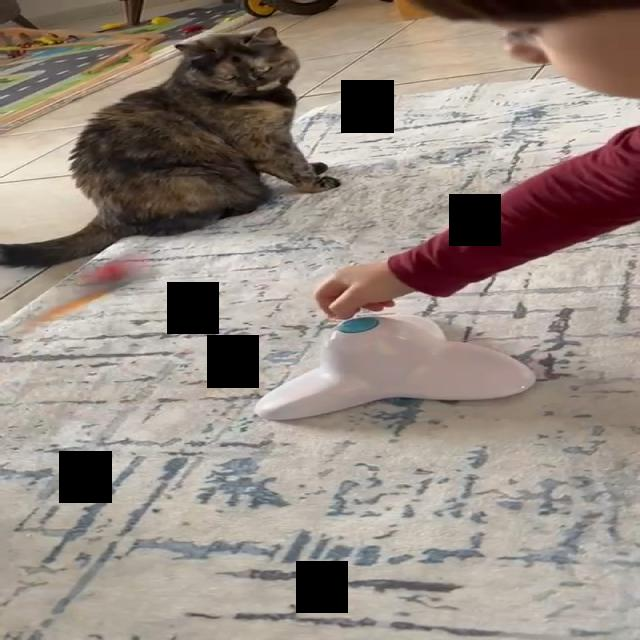authorized: (0, 25, 341, 269)
